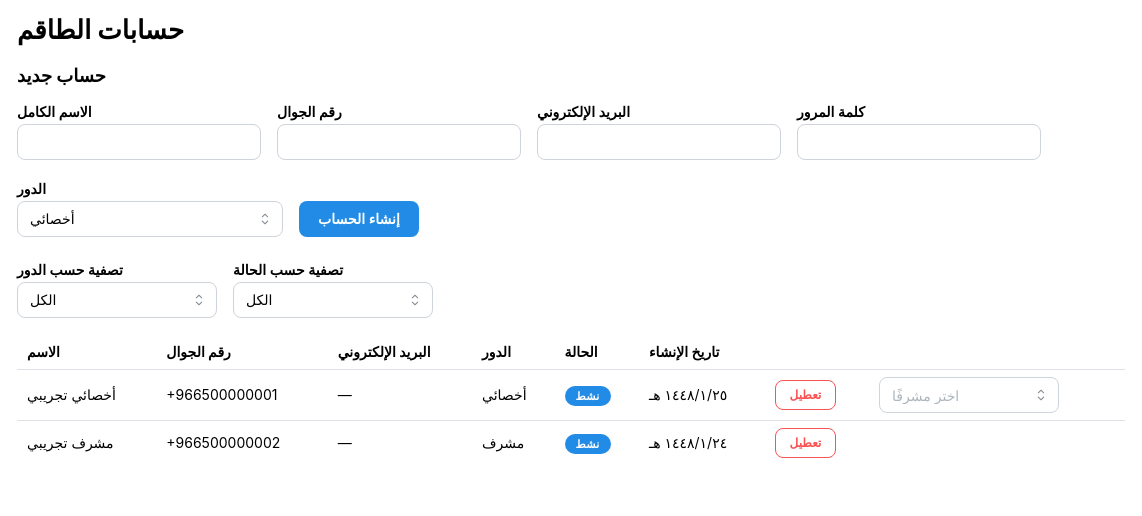
Test: StaffAccountsPage › assigns a supervisor to a CLINICIAN row and shows a confirmation
This screenshot has width=1142, height=516.
Click the dropdown with test id "assign-supervisor-select-clinician-1" at (969, 395), box top-left (879, 377), bottom-right (1059, 413)
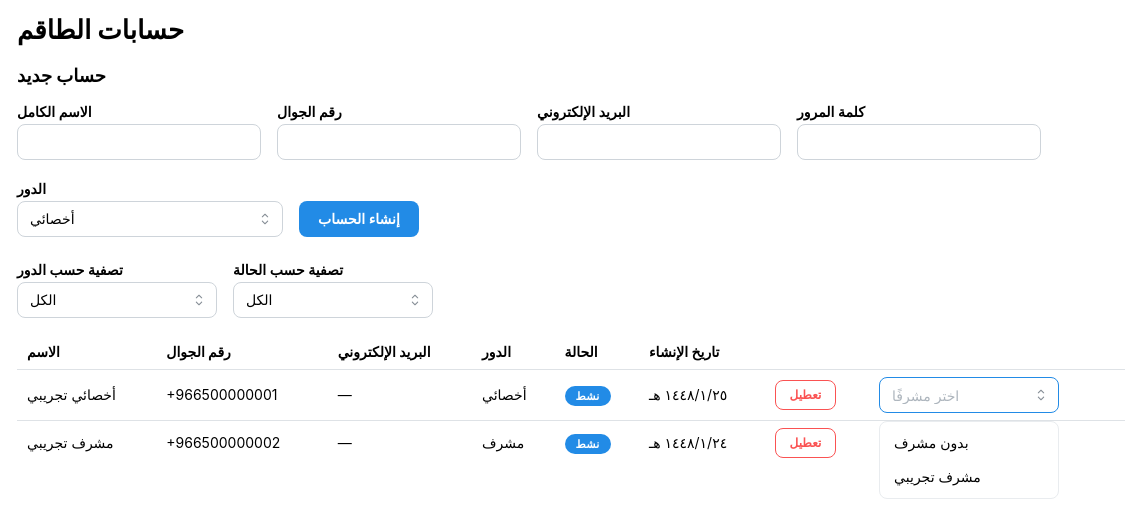
Click the option "مشرف تجريبي" at (937, 476), box top-left (894, 468), bottom-right (981, 485)
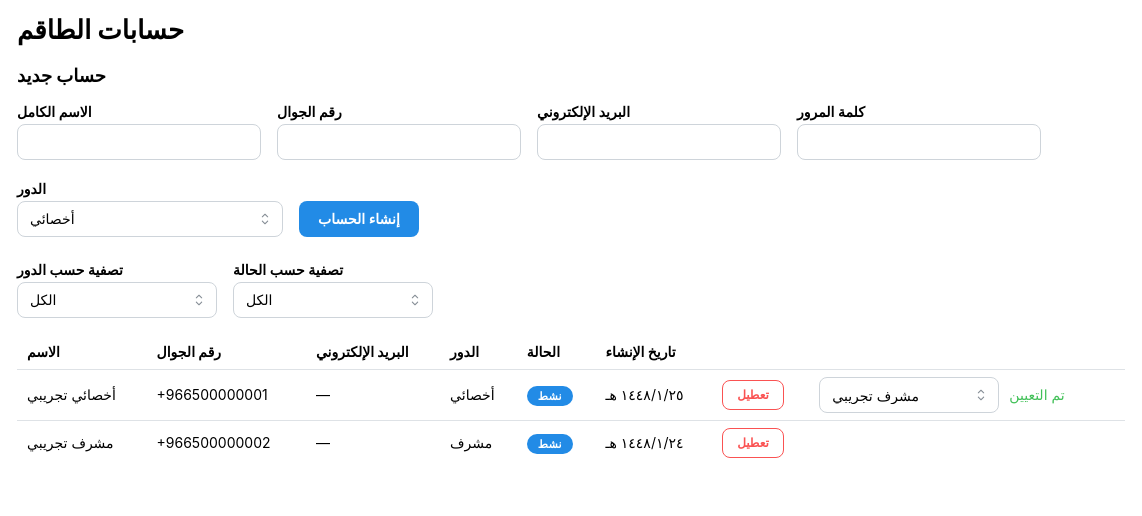
Expected: the text "تم التعيين" is shown, top-left (1009, 385), bottom-right (1065, 405)
